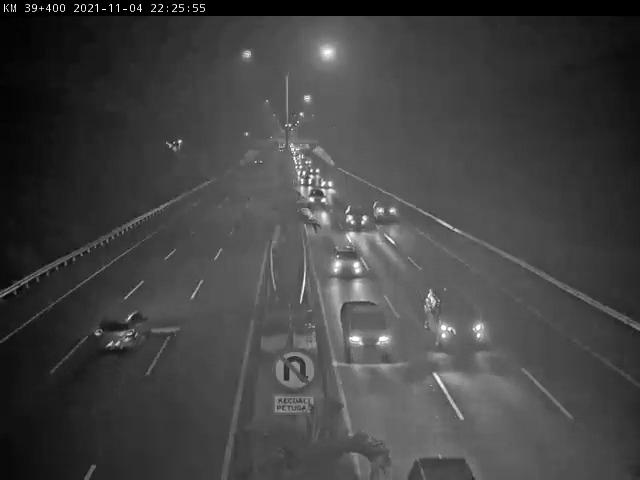car: (418, 284, 496, 355), (89, 306, 151, 358), (326, 242, 376, 281), (343, 198, 372, 235), (374, 193, 403, 225), (307, 185, 330, 213)
truck-s-: (336, 300, 401, 365)
